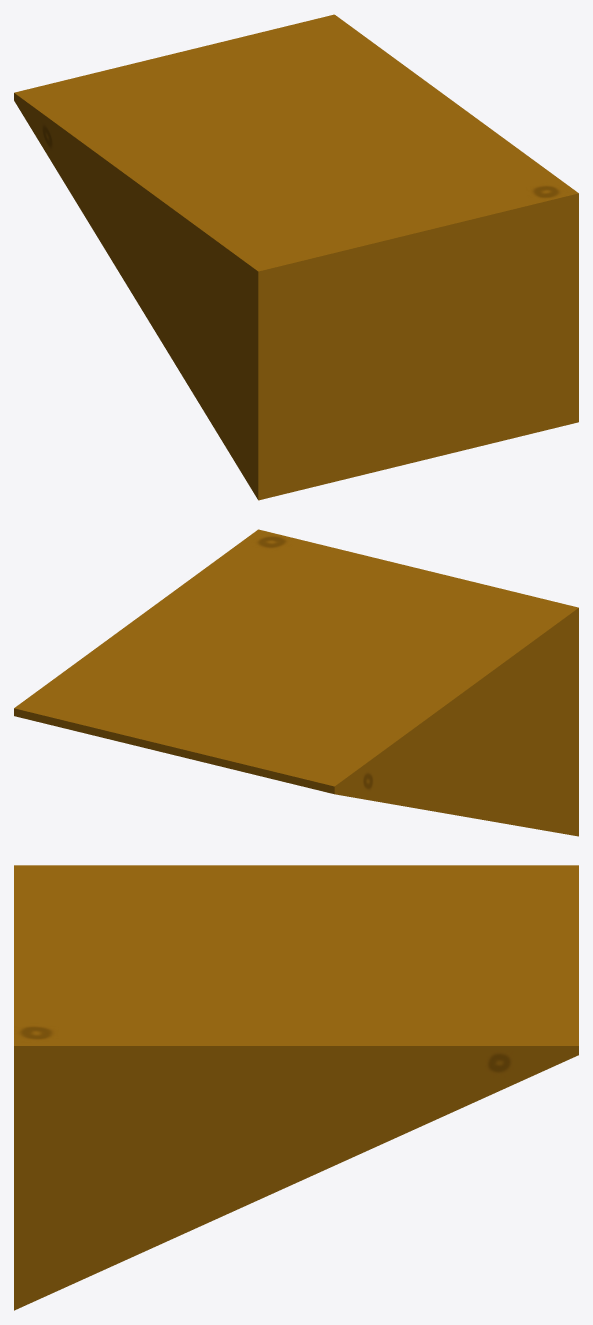
File: DarkMetal_Triangle.fbx
The picture shows the model from 3 angles, top to bottom: view 1: azimuth 30°, elevation 25°; view 2: azimuth 150°, elevation 25°; view 3: azimuth 270°, elevation 25°; orthographic projection. The views are drawn at different scales.
Parts seen in each view (by area): view 1: Box002; view 2: Box002; view 3: Box002.
Boxes of the visible parts, left/top/right/bottom form: Box002: left=14, top=14, right=578, bottom=500; Box002: left=14, top=529, right=578, bottom=836; Box002: left=14, top=865, right=578, bottom=1310.
Size of the model in its own units: 76 by 51.85 by 100.
Materials: 1 (1 with a texture image).
